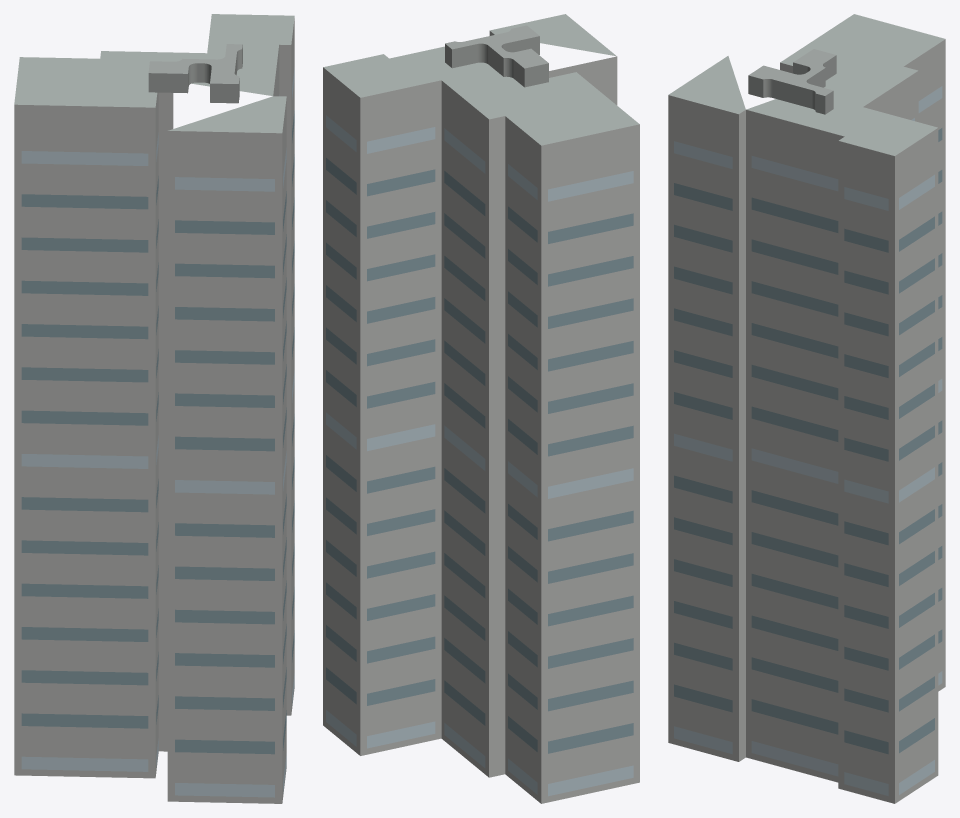
Rendered from fallback-lake-palace-132.glb.
The picture shows the model from 3 angles, left to right: view 1: azimuth 30°, elevation 25°; view 2: azimuth 150°, elevation 25°; view 3: azimuth 270°, elevation 25°; orthographic projection. The views are drawn at different scales.
Parts seen in each view (by area): view 1: fallback-lake-palace-132; view 2: fallback-lake-palace-132; view 3: fallback-lake-palace-132.
Boxes of the visible parts, x1,y1,x2,y2 form: fallback-lake-palace-132: (14, 14, 294, 803); fallback-lake-palace-132: (323, 14, 639, 803); fallback-lake-palace-132: (668, 14, 945, 803).
Size of the model in its own units: 39.35 by 86 by 32.47.
